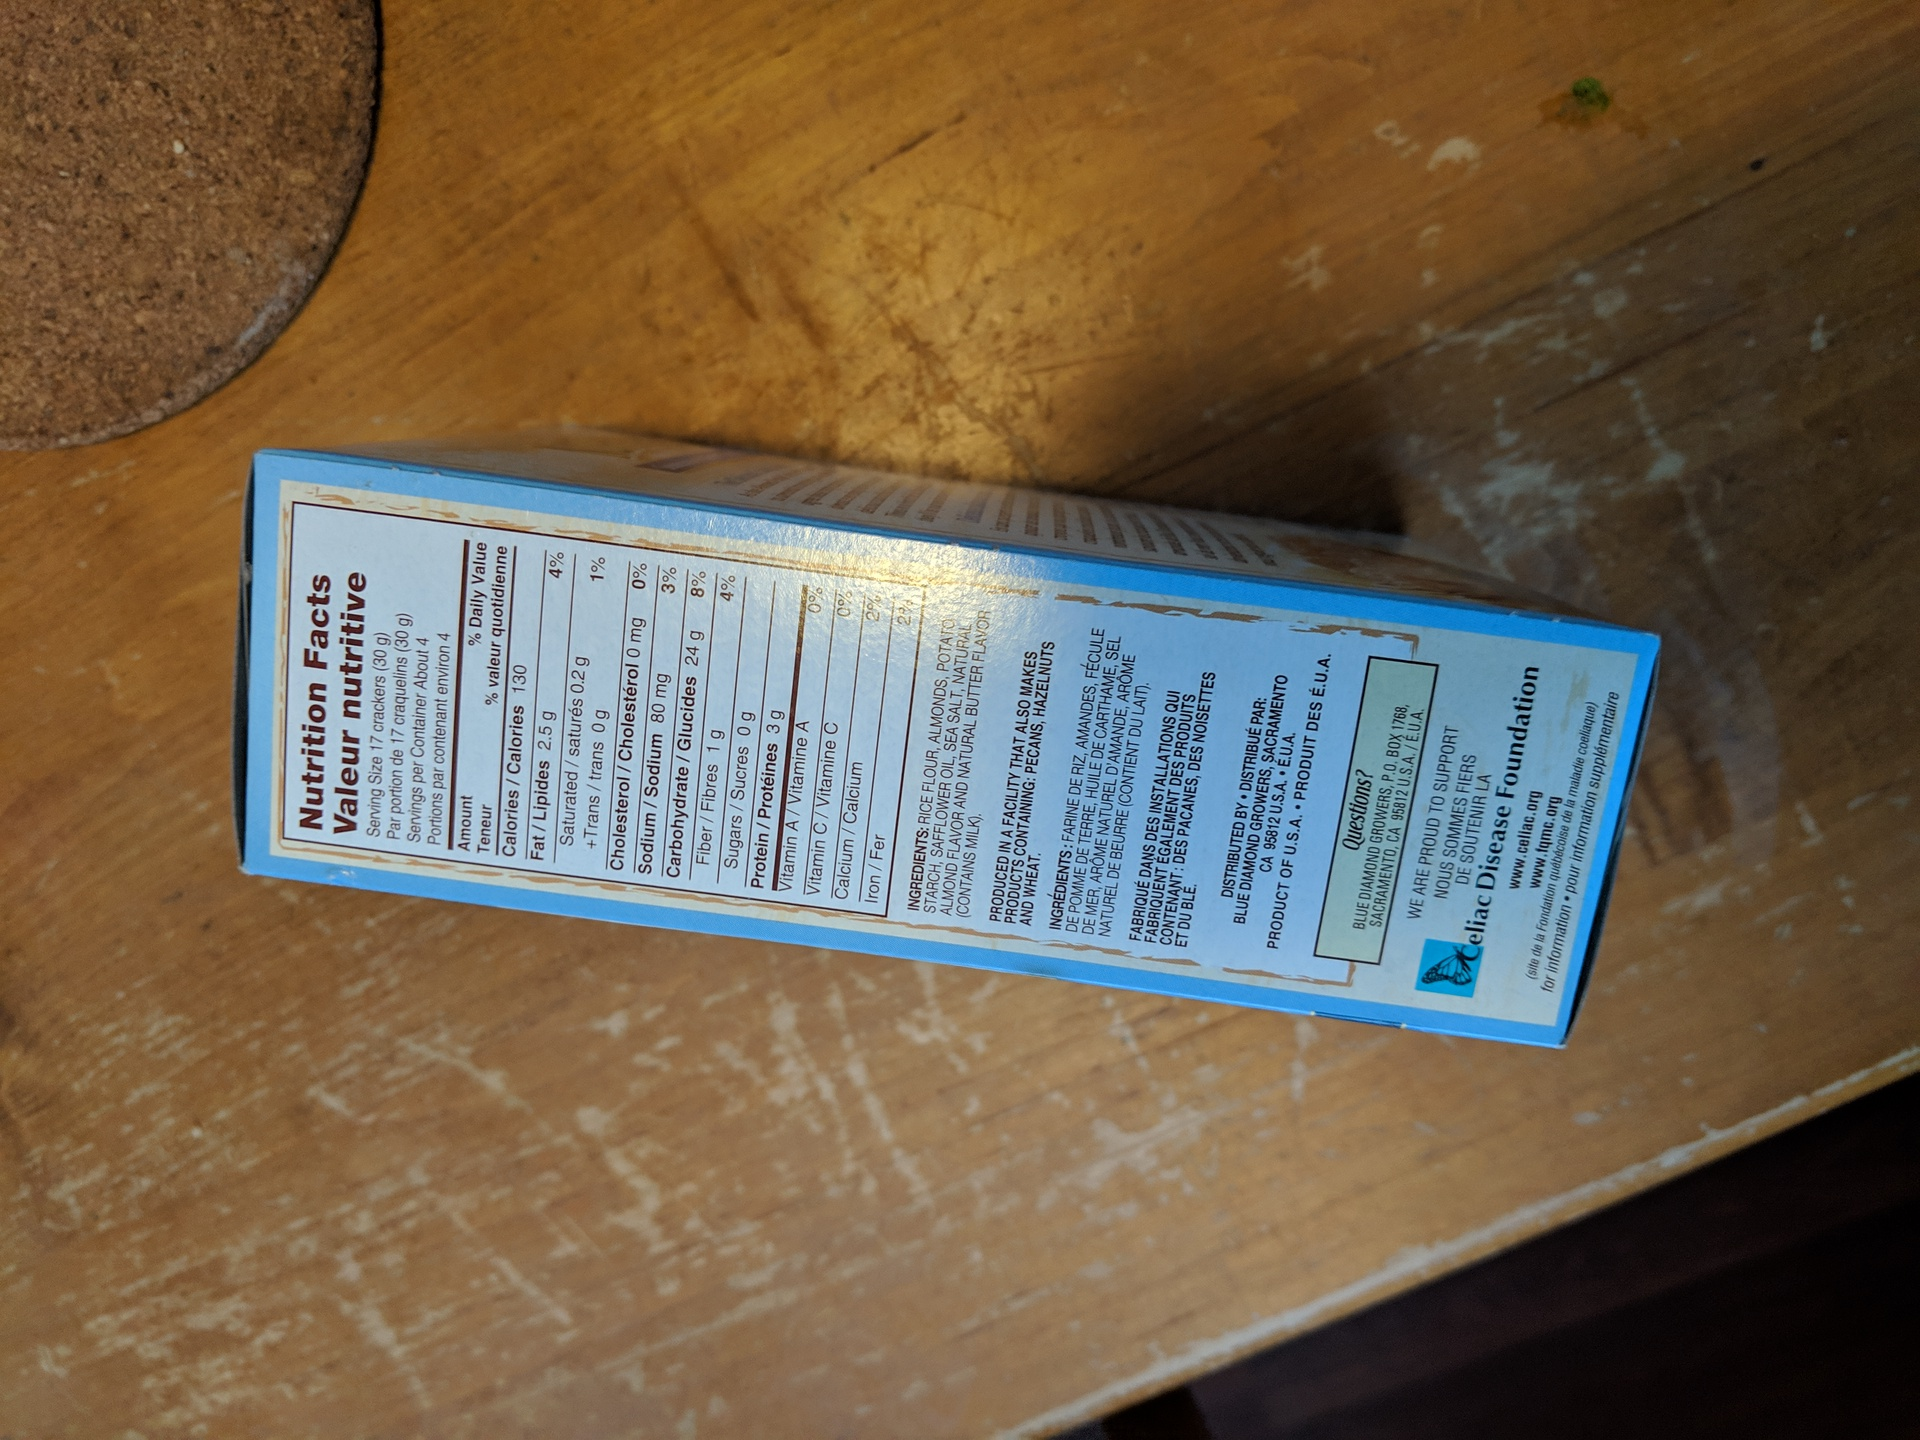blue_diamond_nut_thins_almond_seasalt: (254, 448, 1604, 1013)
